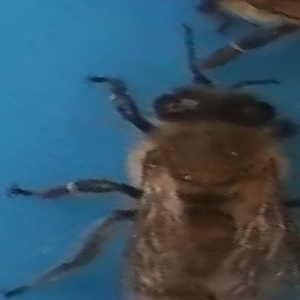bee: (18, 65, 298, 300), (197, 1, 300, 56)
